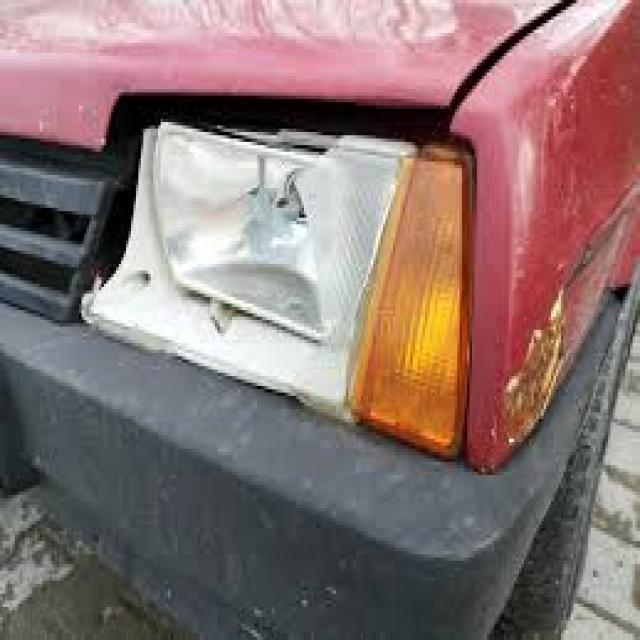damaged-head-light: (100, 102, 472, 438)
